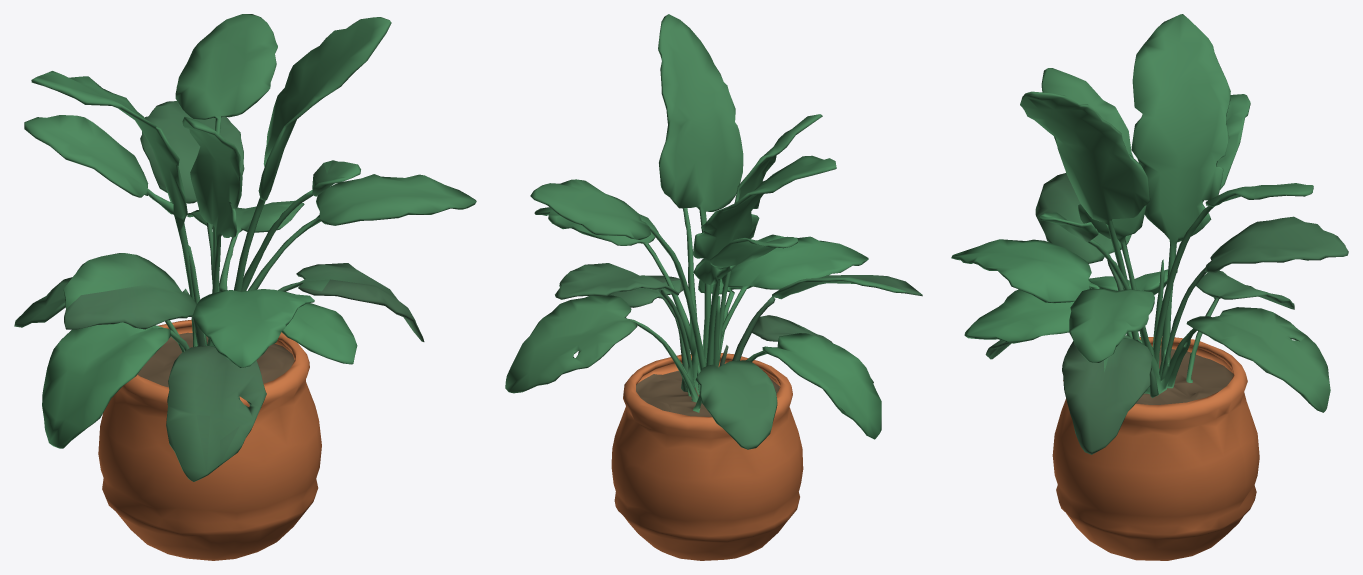
Rendered from plant.glb.
3 views of the same model, side by side, from view 1: azimuth 30°, elevation 25°; view 2: azimuth 150°, elevation 25°; view 3: azimuth 270°, elevation 25° (orthographic). The views are drawn at different scales.
Visible parts, largest first — view 1: Plant; view 2: Plant; view 3: Plant.
Part boxes in pixels (bbox=[...]): Plant: bbox=[14, 14, 476, 560]; Plant: bbox=[505, 14, 922, 560]; Plant: bbox=[951, 14, 1348, 560].
Bounding box in the file's own units: 0.6934 × 0.8267 × 0.5983.
1 material, 1 textured.
